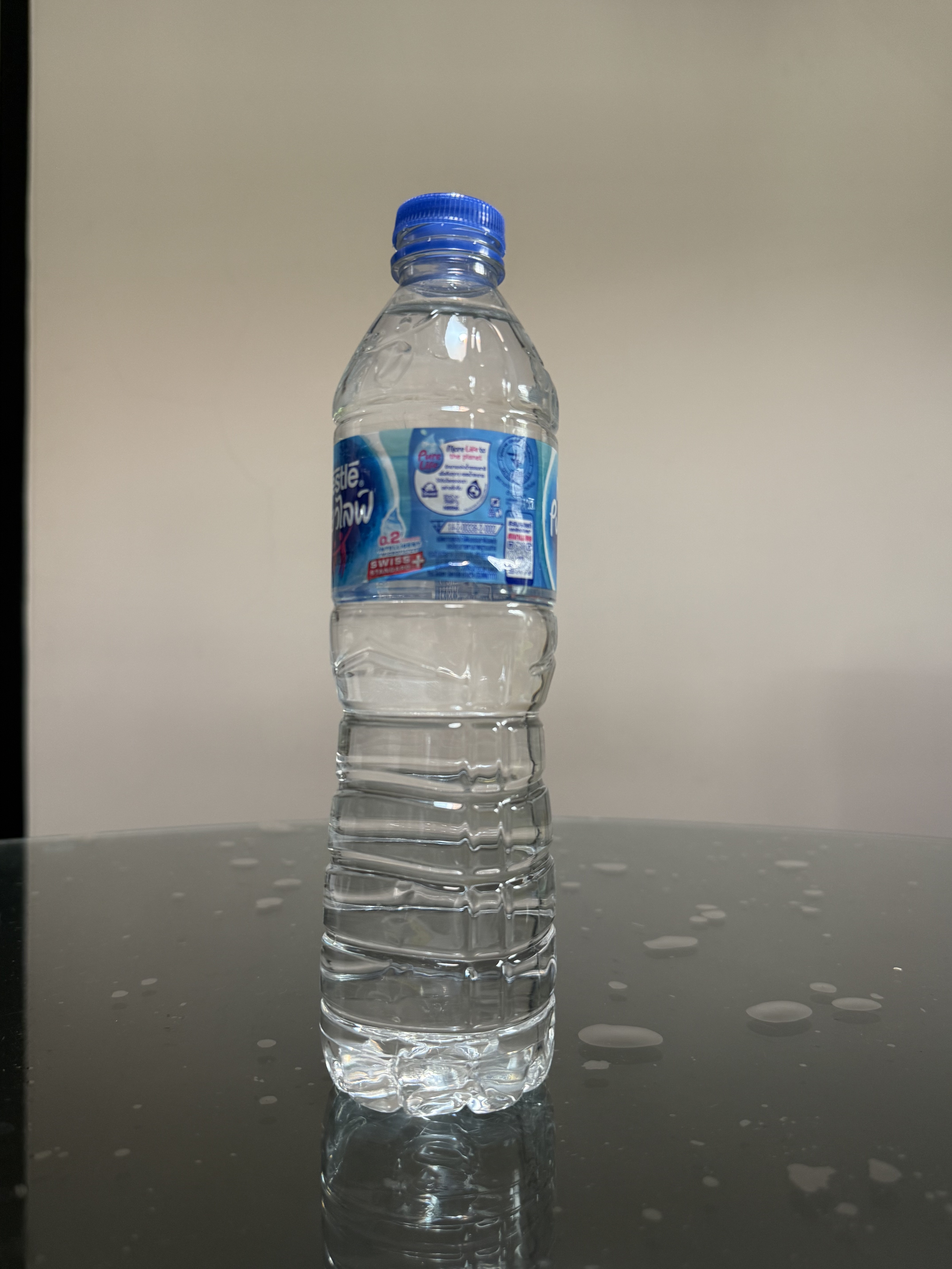half_cap: (388, 188, 508, 285)
